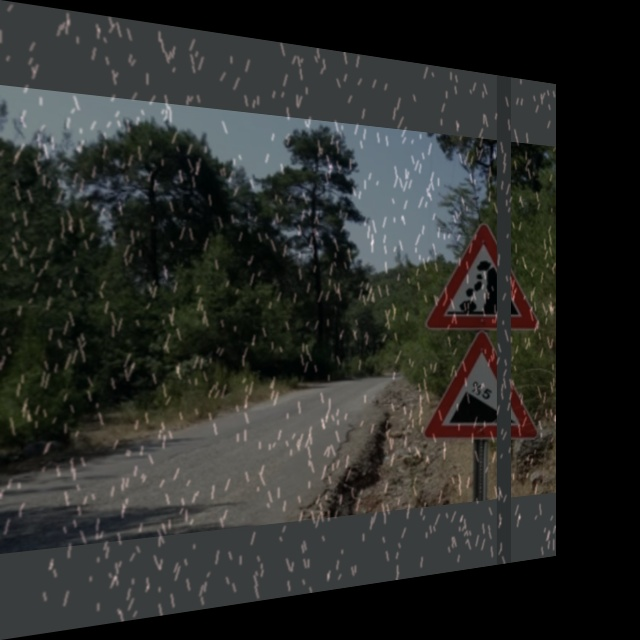Falling_Rocks: (430, 217, 535, 327)
